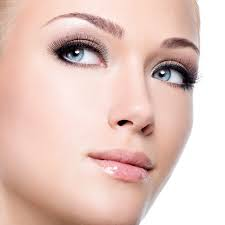white_female: (21, 4, 223, 203)
